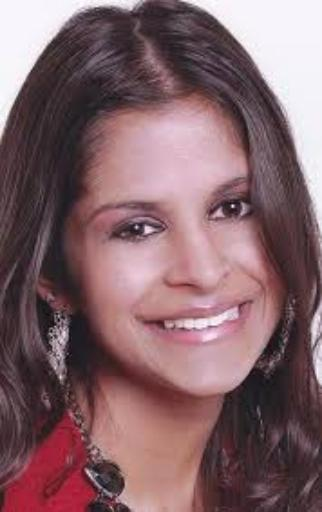left_eye: (210, 196, 259, 228)
left_lip_corner: (240, 293, 260, 314)
right_eye: (107, 217, 168, 250)
right_lip_corner: (139, 309, 160, 335)
